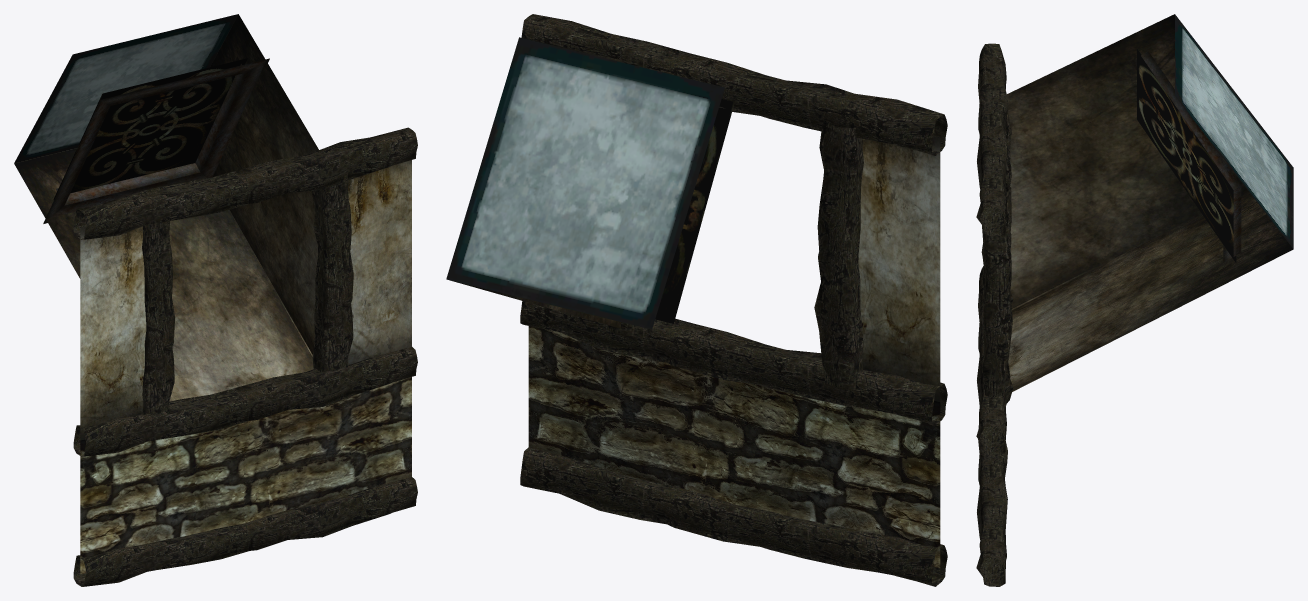
The model's file is window_blue.dae.
3 views of the same model, side by side, from view 1: azimuth 30°, elevation 25°; view 2: azimuth 150°, elevation 25°; view 3: azimuth 270°, elevation 25° (orthographic). The views are drawn at different scales.
Visible parts, largest first — view 1: polySurface7, polySurface9, polySurface14, pPlane9, polySurface13; view 2: polySurface7, polySurface9, polySurface13, pPlane9, polySurface14; view 3: polySurface14, polySurface9, polySurface13, pPlane9.
Boxes of the visible parts, left/top/right/bottom form: polySurface7: left=80, top=160, right=411, bottom=574; polySurface9: left=73, top=127, right=417, bottom=586; polySurface14: left=14, top=14, right=318, bottom=401; pPlane9: left=53, top=58, right=247, bottom=200; polySurface13: left=14, top=14, right=238, bottom=163; polySurface7: left=528, top=136, right=940, bottom=568; polySurface9: left=520, top=14, right=947, bottom=586; polySurface13: left=446, top=37, right=724, bottom=329; pPlane9: left=655, top=99, right=734, bottom=323; polySurface14: left=450, top=38, right=724, bottom=328; polySurface14: left=1007, top=14, right=1293, bottom=391; polySurface9: left=976, top=43, right=1013, bottom=586; polySurface13: left=1175, top=14, right=1293, bottom=248; pPlane9: left=1137, top=48, right=1236, bottom=262.
Bounding box in the file's own units: 4 × 5.21 × 3.28.
